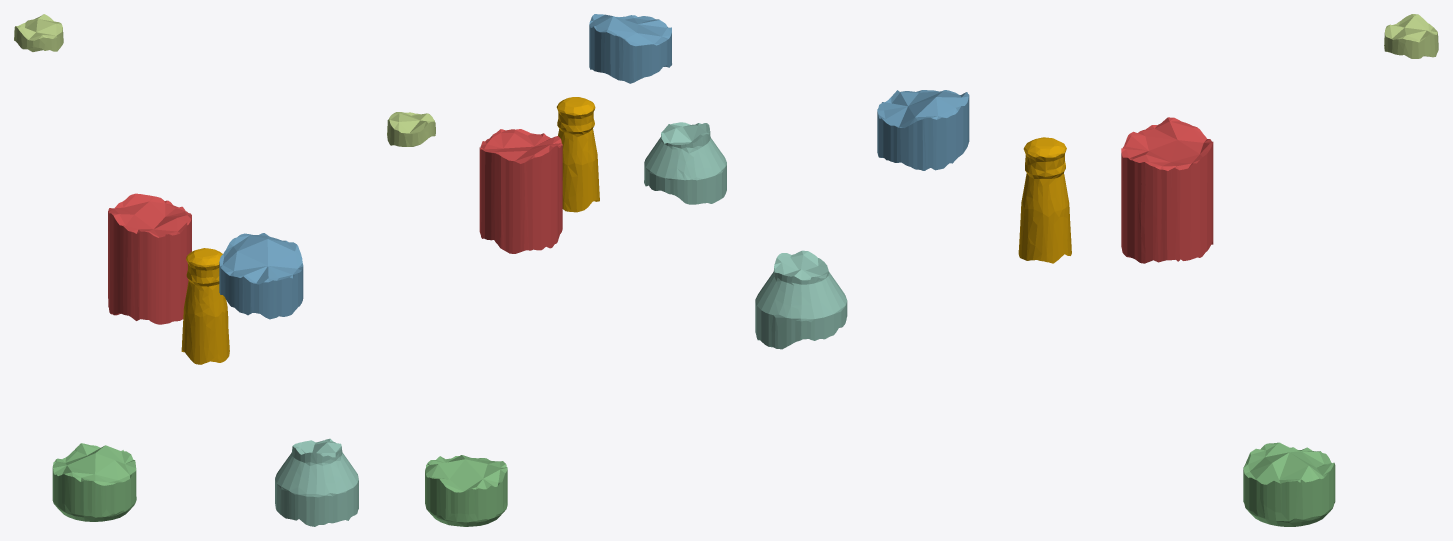
Rendered from fractured_60_6pcs_transformed.glb.
3 views of the same model, side by side, from view 1: azimuth 30°, elevation 25°; view 2: azimuth 150°, elevation 25°; view 3: azimuth 270°, elevation 25° (orthographic). The views are drawn at different scales.
Visible parts, largest first — view 1: piece_1.obj, piece_2.obj, piece_4.obj, piece_3.obj, piece_0.obj, piece_5.obj; view 2: piece_1.obj, piece_4.obj, piece_3.obj, piece_2.obj, piece_0.obj, piece_5.obj; view 3: piece_1.obj, piece_4.obj, piece_3.obj, piece_2.obj, piece_0.obj, piece_5.obj.
Part boxes in pixels (x1,y1,x2,y2): piece_1.obj: [108, 193, 191, 324]; piece_2.obj: [219, 233, 303, 319]; piece_4.obj: [275, 438, 358, 526]; piece_3.obj: [52, 443, 136, 521]; piece_0.obj: [181, 248, 229, 364]; piece_5.obj: [14, 14, 63, 51]; piece_1.obj: [479, 129, 562, 253]; piece_4.obj: [644, 122, 726, 204]; piece_3.obj: [425, 455, 507, 526]; piece_2.obj: [589, 14, 671, 83]; piece_0.obj: [556, 97, 599, 212]; piece_5.obj: [387, 112, 435, 146]; piece_1.obj: [1121, 117, 1213, 263]; piece_4.obj: [755, 250, 847, 349]; piece_3.obj: [1243, 442, 1335, 526]; piece_2.obj: [877, 90, 969, 170]; piece_0.obj: [1018, 137, 1071, 263]; piece_5.obj: [1384, 14, 1438, 58].
Size of the model in its own units: 0.2267 by 1.32 by 1.68.
